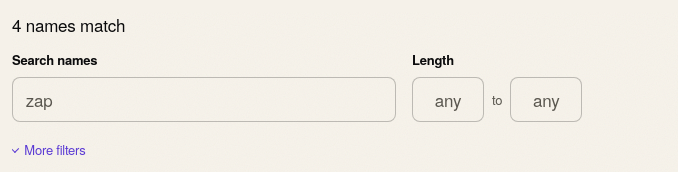
Test case: Toolbar length range › writes both bounds to the link
In the number field named "Shortest label length": [448, 100] box [412, 77, 484, 122], type "4"
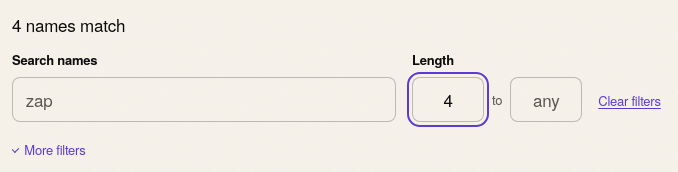
In the number field named "Longest label length": [546, 100] box [510, 77, 582, 122], type "4"
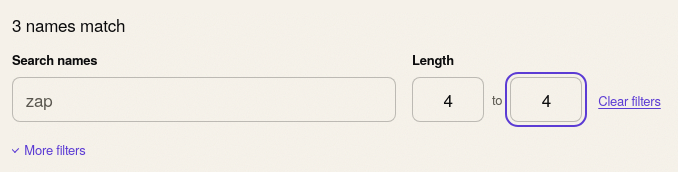
expect the message reads "3 names match": met, box [12, 12, 125, 37]
